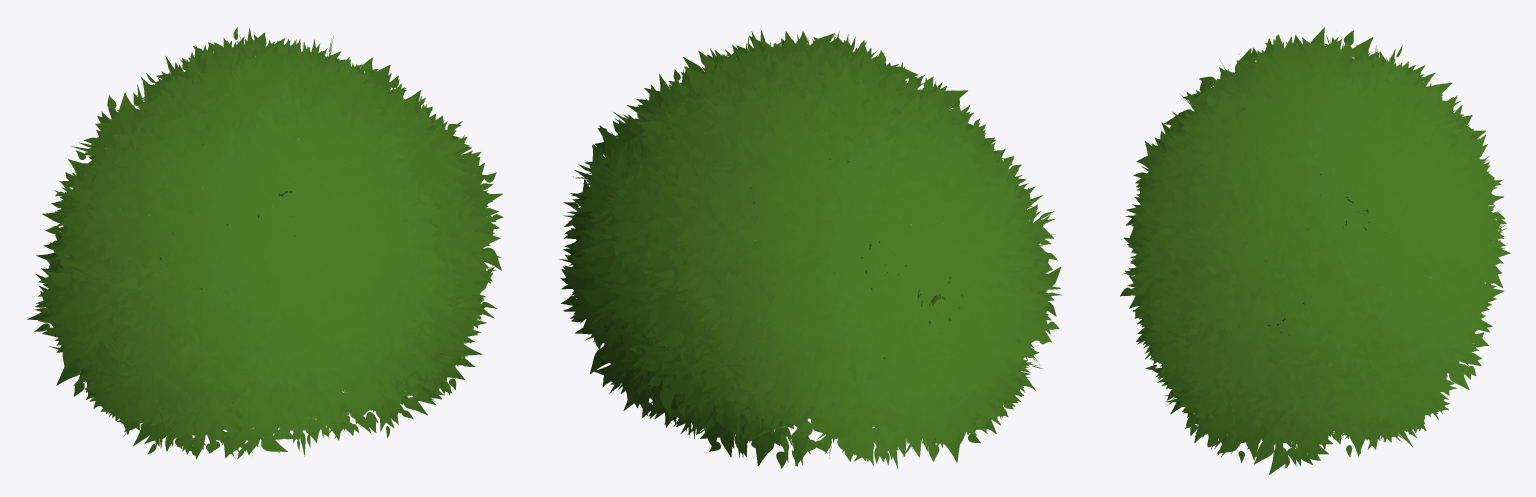
File: Bush3.fbx
The picture shows the model from 3 angles, left to right: view 1: azimuth 30°, elevation 25°; view 2: azimuth 150°, elevation 25°; view 3: azimuth 270°, elevation 25°; orthographic projection. The views are drawn at different scales.
Parts seen in each view (by area): view 1: Leaf.005; view 2: Leaf.005; view 3: Leaf.005.
Boxes of the visible parts, <box> form: Leaf.005: <box>27,27,503,459</box>; Leaf.005: <box>559,29,1061,468</box>; Leaf.005: <box>1120,27,1510,474</box>.
Size of the model in its own units: 99.5 by 83.66 by 79.5.
